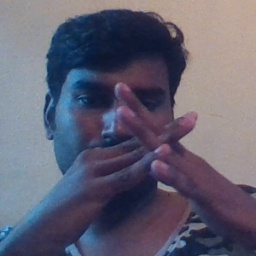W: (83, 74, 230, 217)
